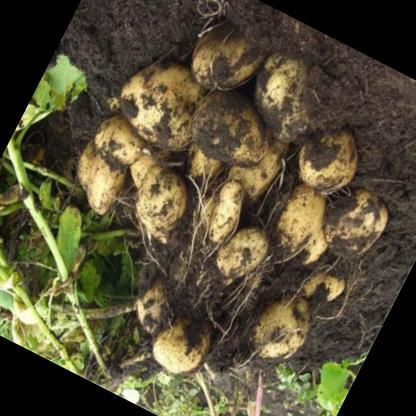potato: (104, 42, 230, 164), (235, 38, 341, 150), (178, 76, 286, 182), (309, 172, 399, 269), (237, 282, 322, 376), (286, 111, 372, 203), (119, 160, 200, 247), (143, 304, 220, 384), (71, 133, 141, 220), (208, 213, 276, 290), (87, 105, 155, 173), (195, 174, 255, 250)
